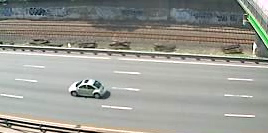car: (66, 77, 110, 101)
